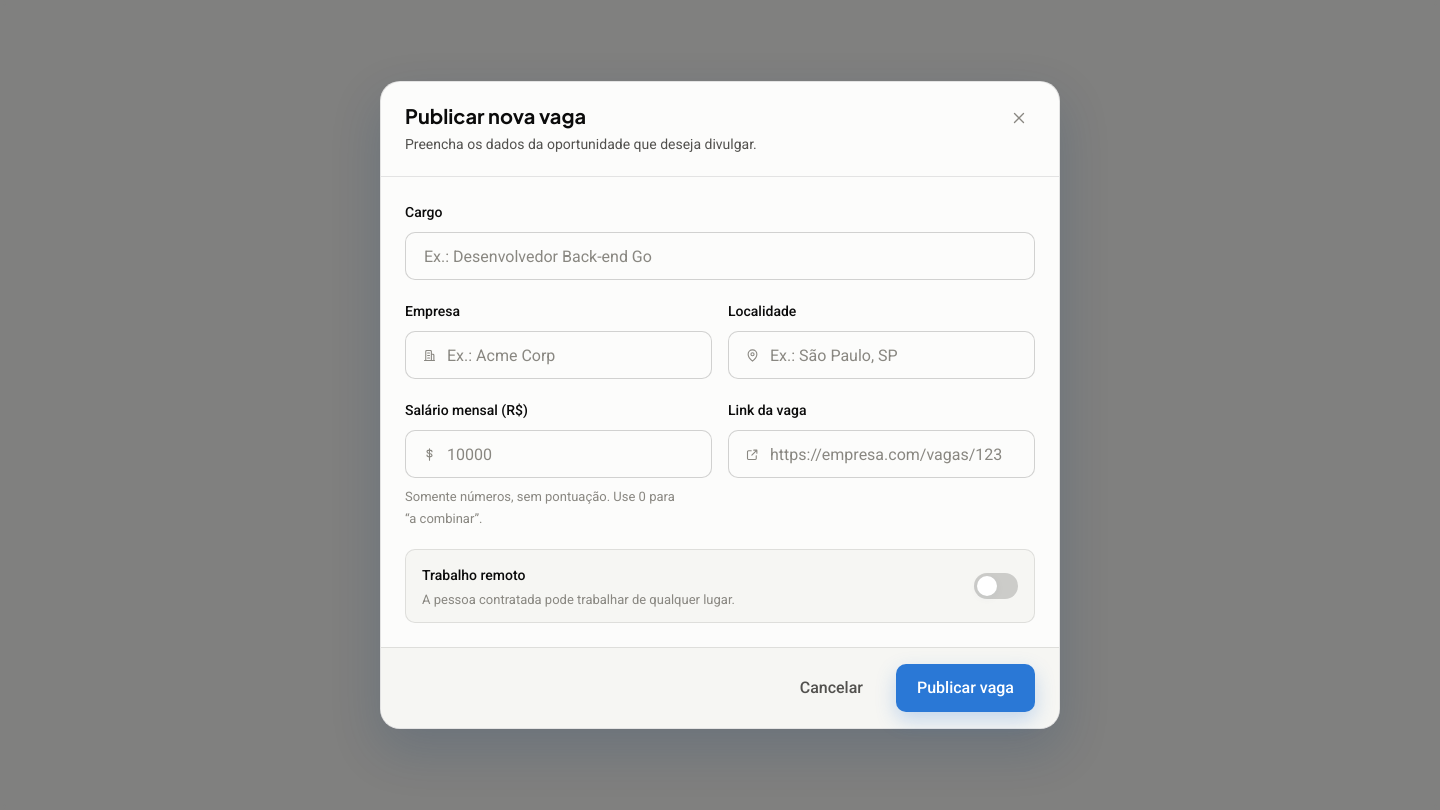
Test: OpeningForm › rejects a link that is not http(s)
In the field labelled "Cargo": coordinates (720, 256) [422,233,1018,279], type "Desenvolvedor Go"
In the field labelled "Empresa": coordinates (570, 355) [445,332,695,378], type "Acme"
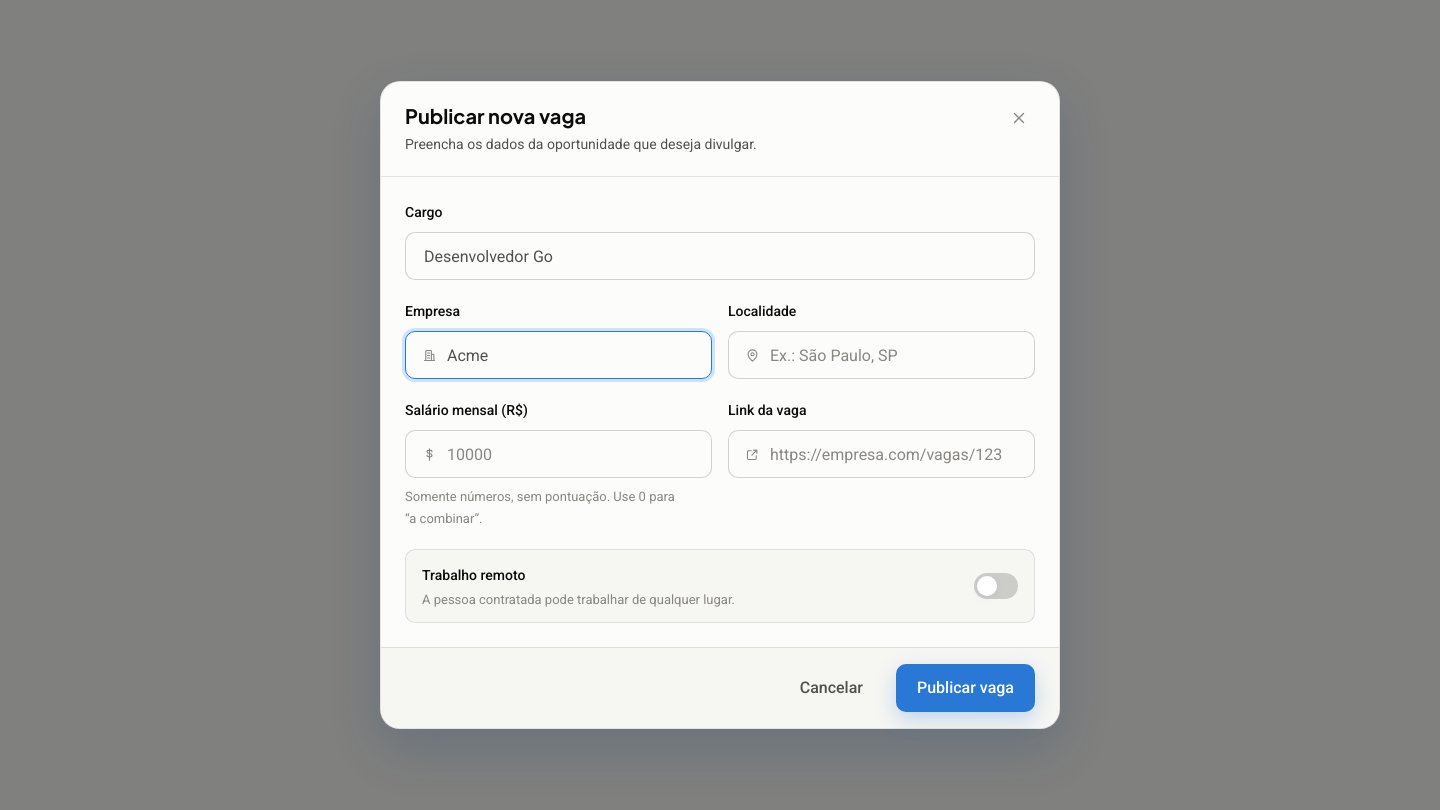
In the field labelled "Localidade": coordinates (893, 355) [768,332,1018,378], type "São Paulo, SP"
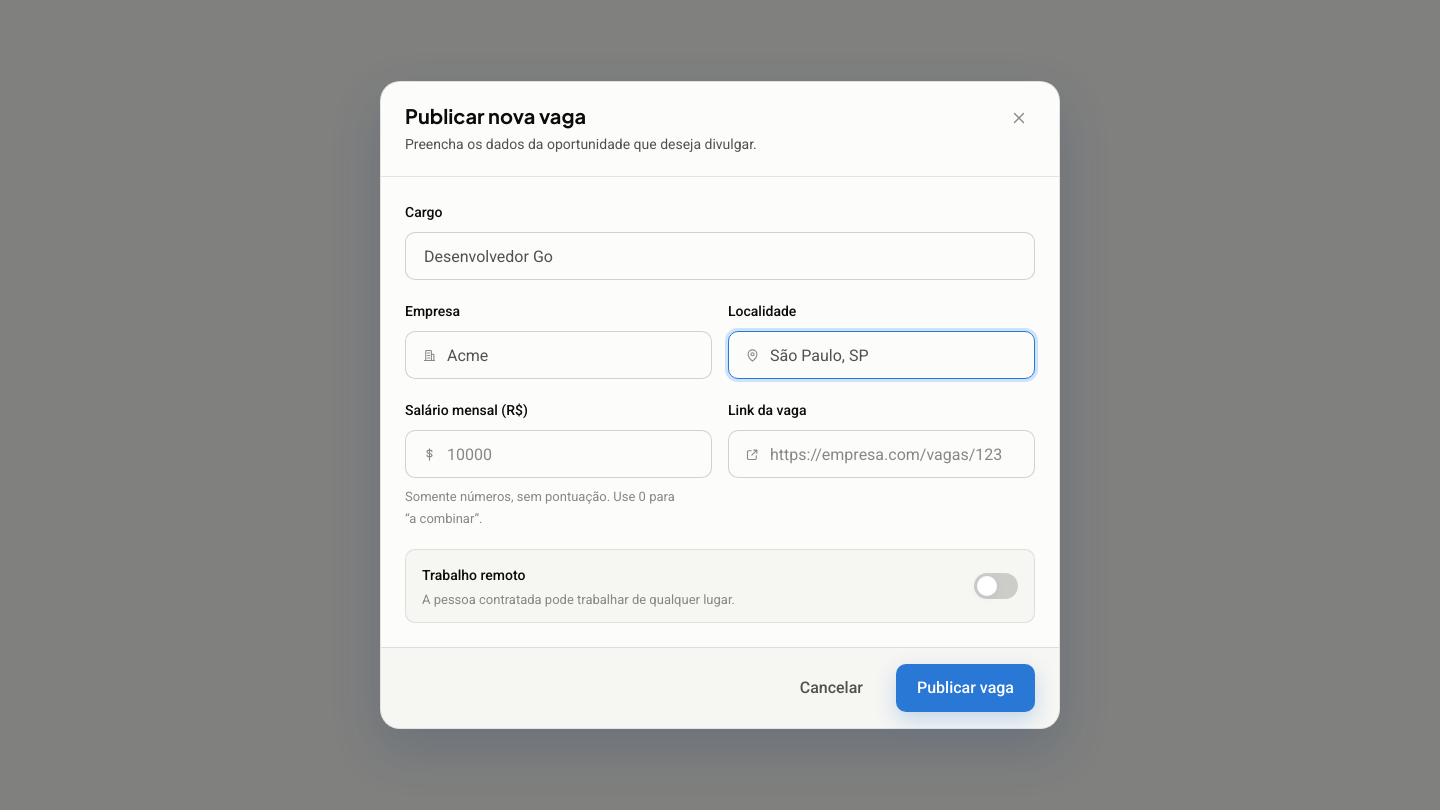
In the field labelled "Link da vaga": coordinates (893, 454) [768,431,1018,477], type "https://acme.com/vagas/1"
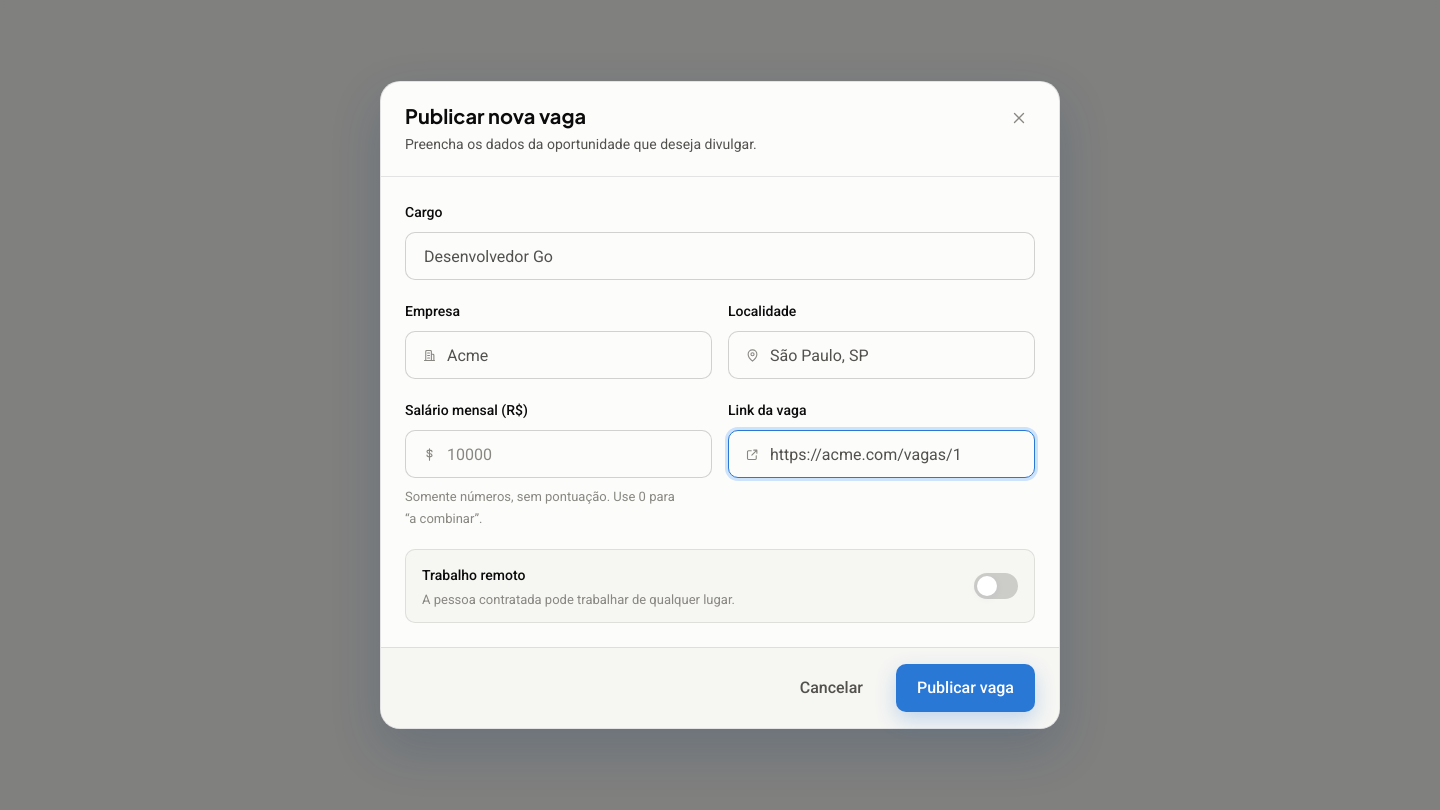
In the number field labelled "Salário mensal (R$)": coordinates (570, 454) [445,431,695,477], type "15000"
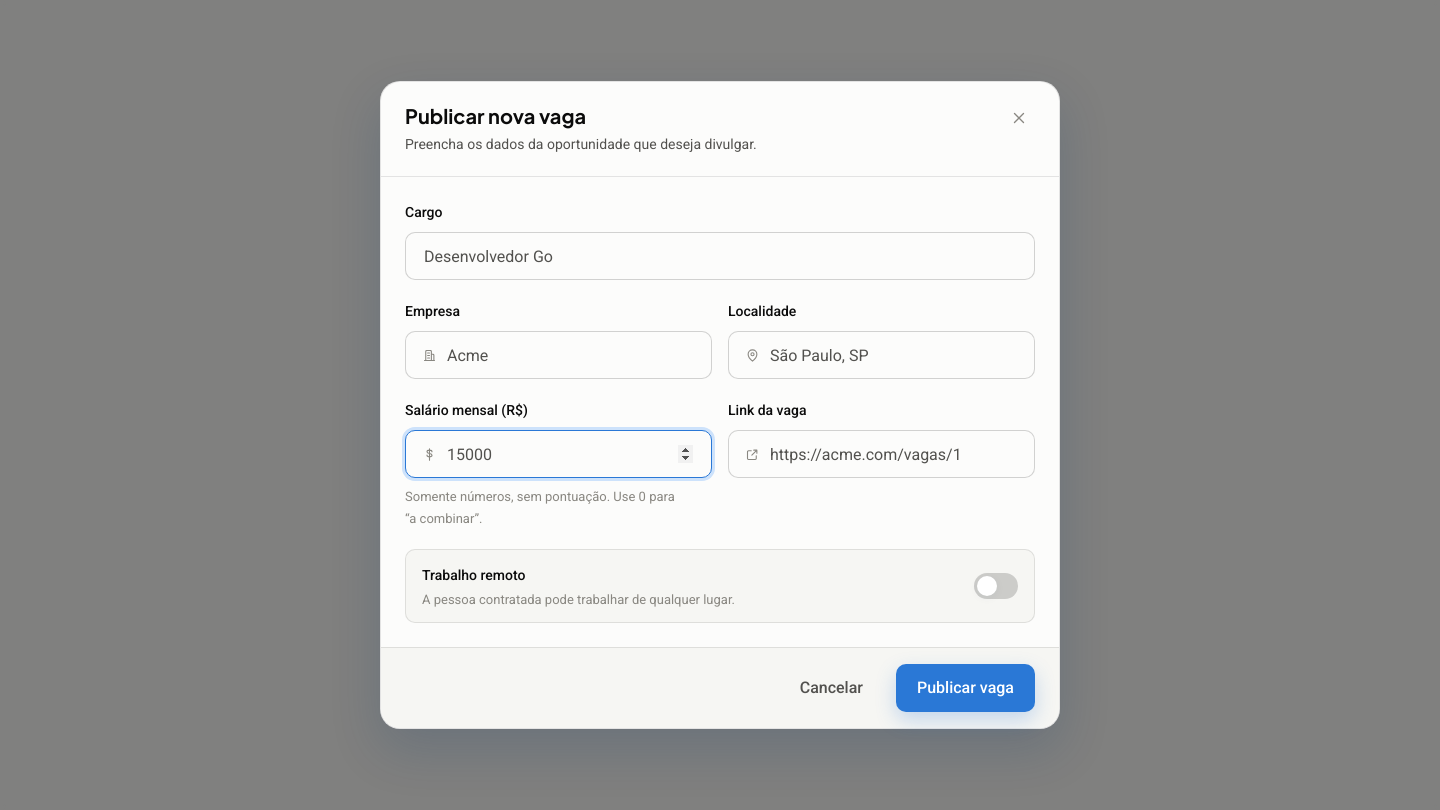
Replace the text in the field labelled "Link da vaga" with "javascript:alert(1)": coordinates (893, 454) [768,431,1018,477]
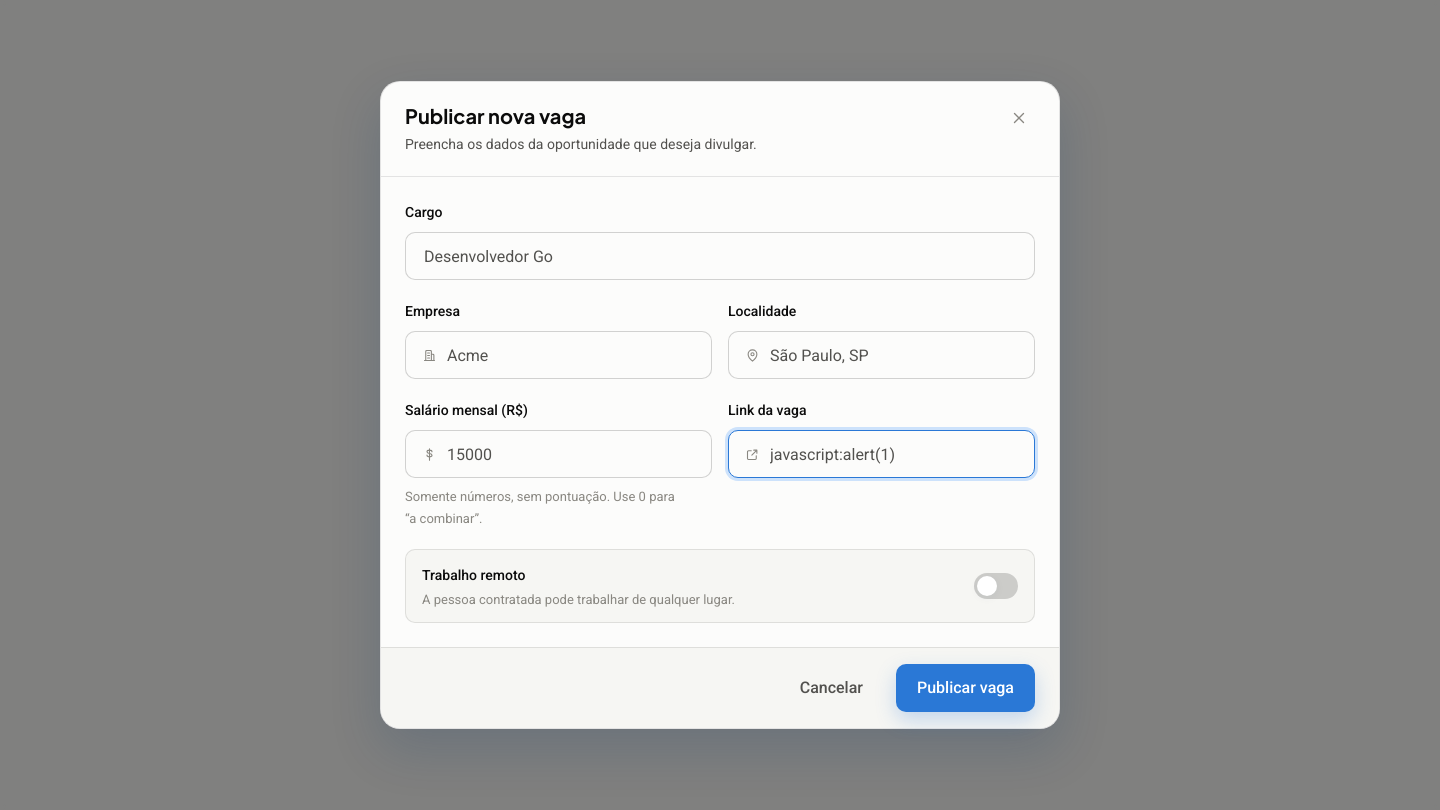
Click the button "Publicar vaga": coordinates (966, 688) [896,664,1035,712]
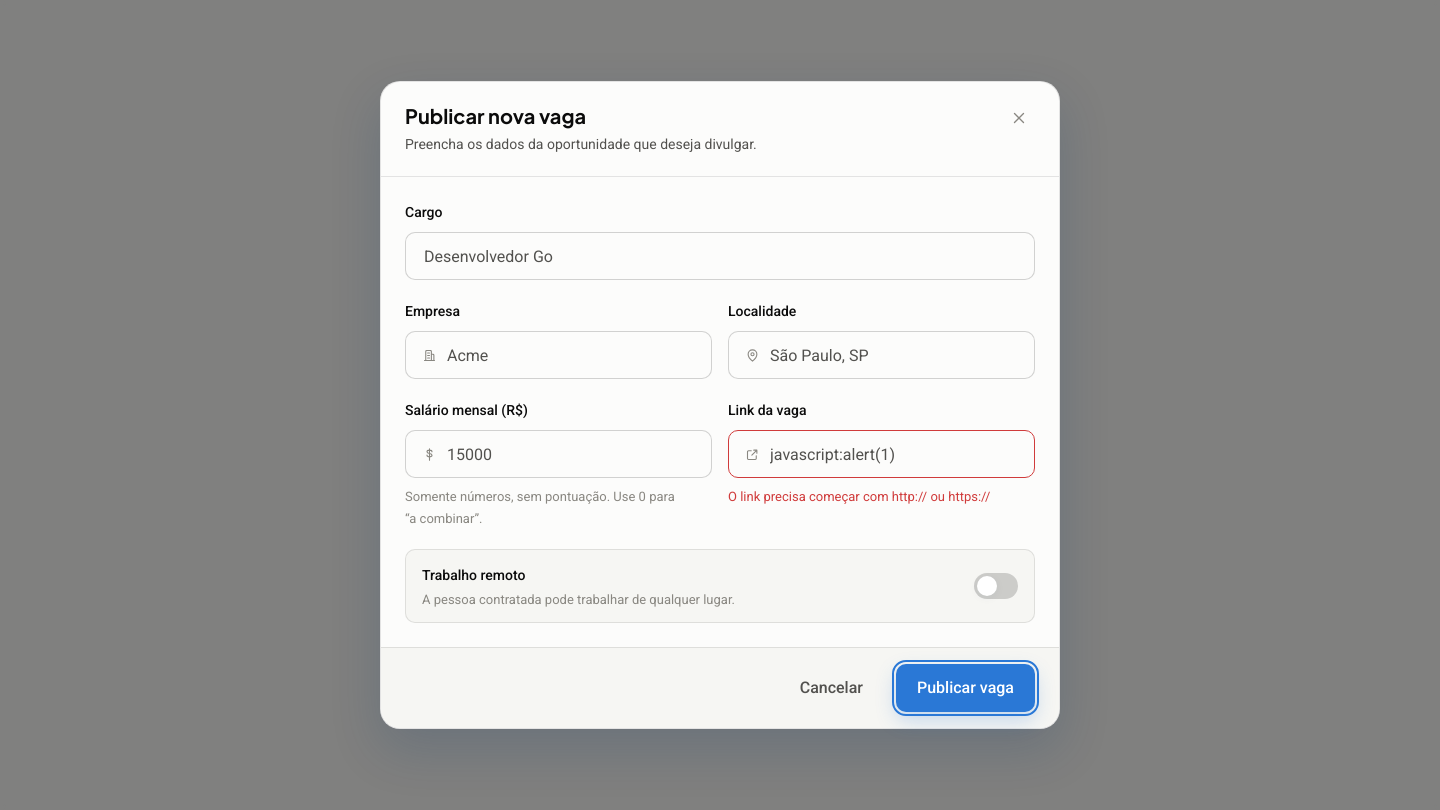
Expected: the text "O link precisa começar com http:// ou https://" is shown, [728,486,1035,508]
